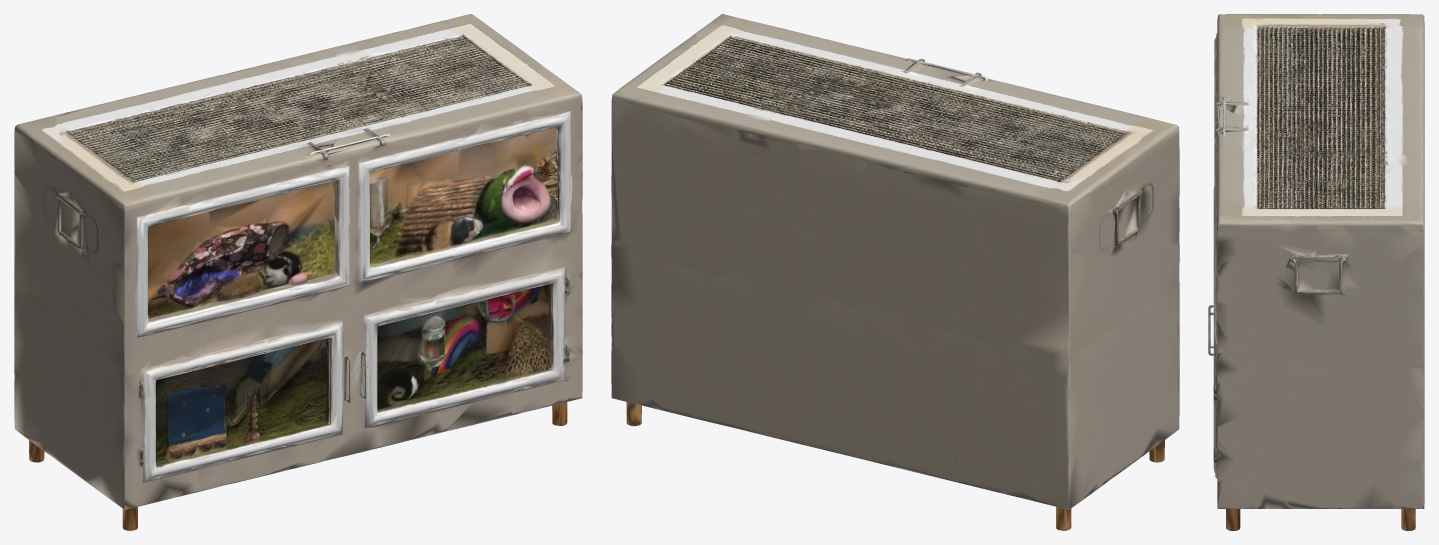
File: guineas.glb
The picture shows the model from 3 angles, left to right: view 1: azimuth 30°, elevation 25°; view 2: azimuth 150°, elevation 25°; view 3: azimuth 270°, elevation 25°; orthographic projection. The views are drawn at different scales.
Size of the model in its own units: 62217 by 43106 by 26774.
1 material, 1 textured.
